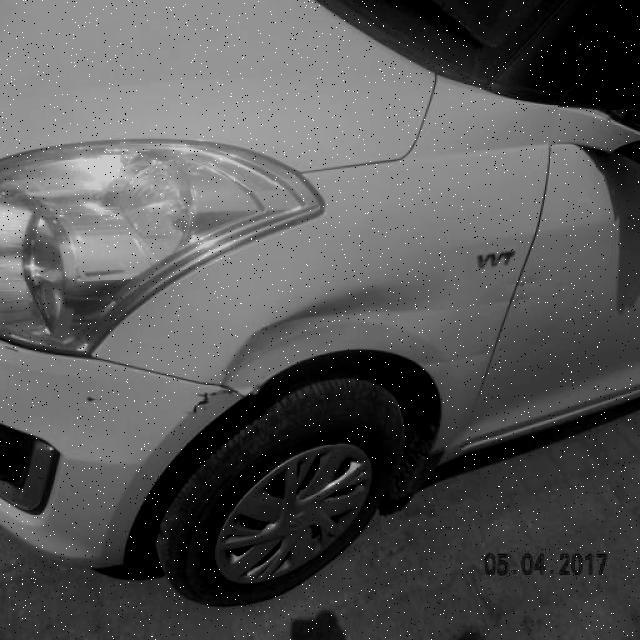car damage: (225, 286, 434, 390), (181, 387, 239, 422)
